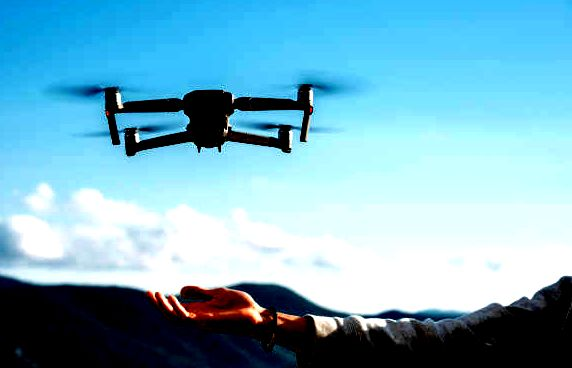Drone: (45, 69, 368, 165)
